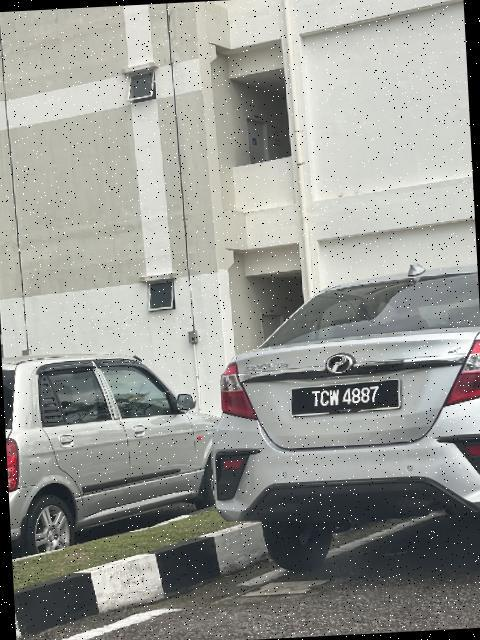License_Plate: (291, 378, 406, 419)
TCW4887: (291, 378, 406, 419)
car: (193, 266, 480, 579), (3, 339, 259, 559)
